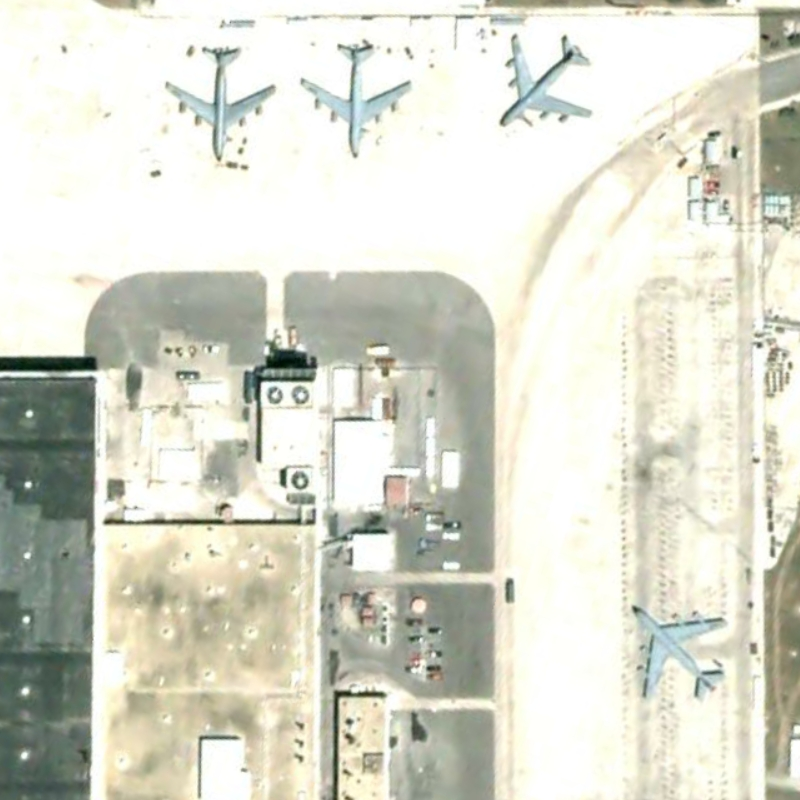A14: (157, 34, 280, 168), (292, 35, 416, 161), (620, 598, 732, 708), (495, 29, 601, 133)
